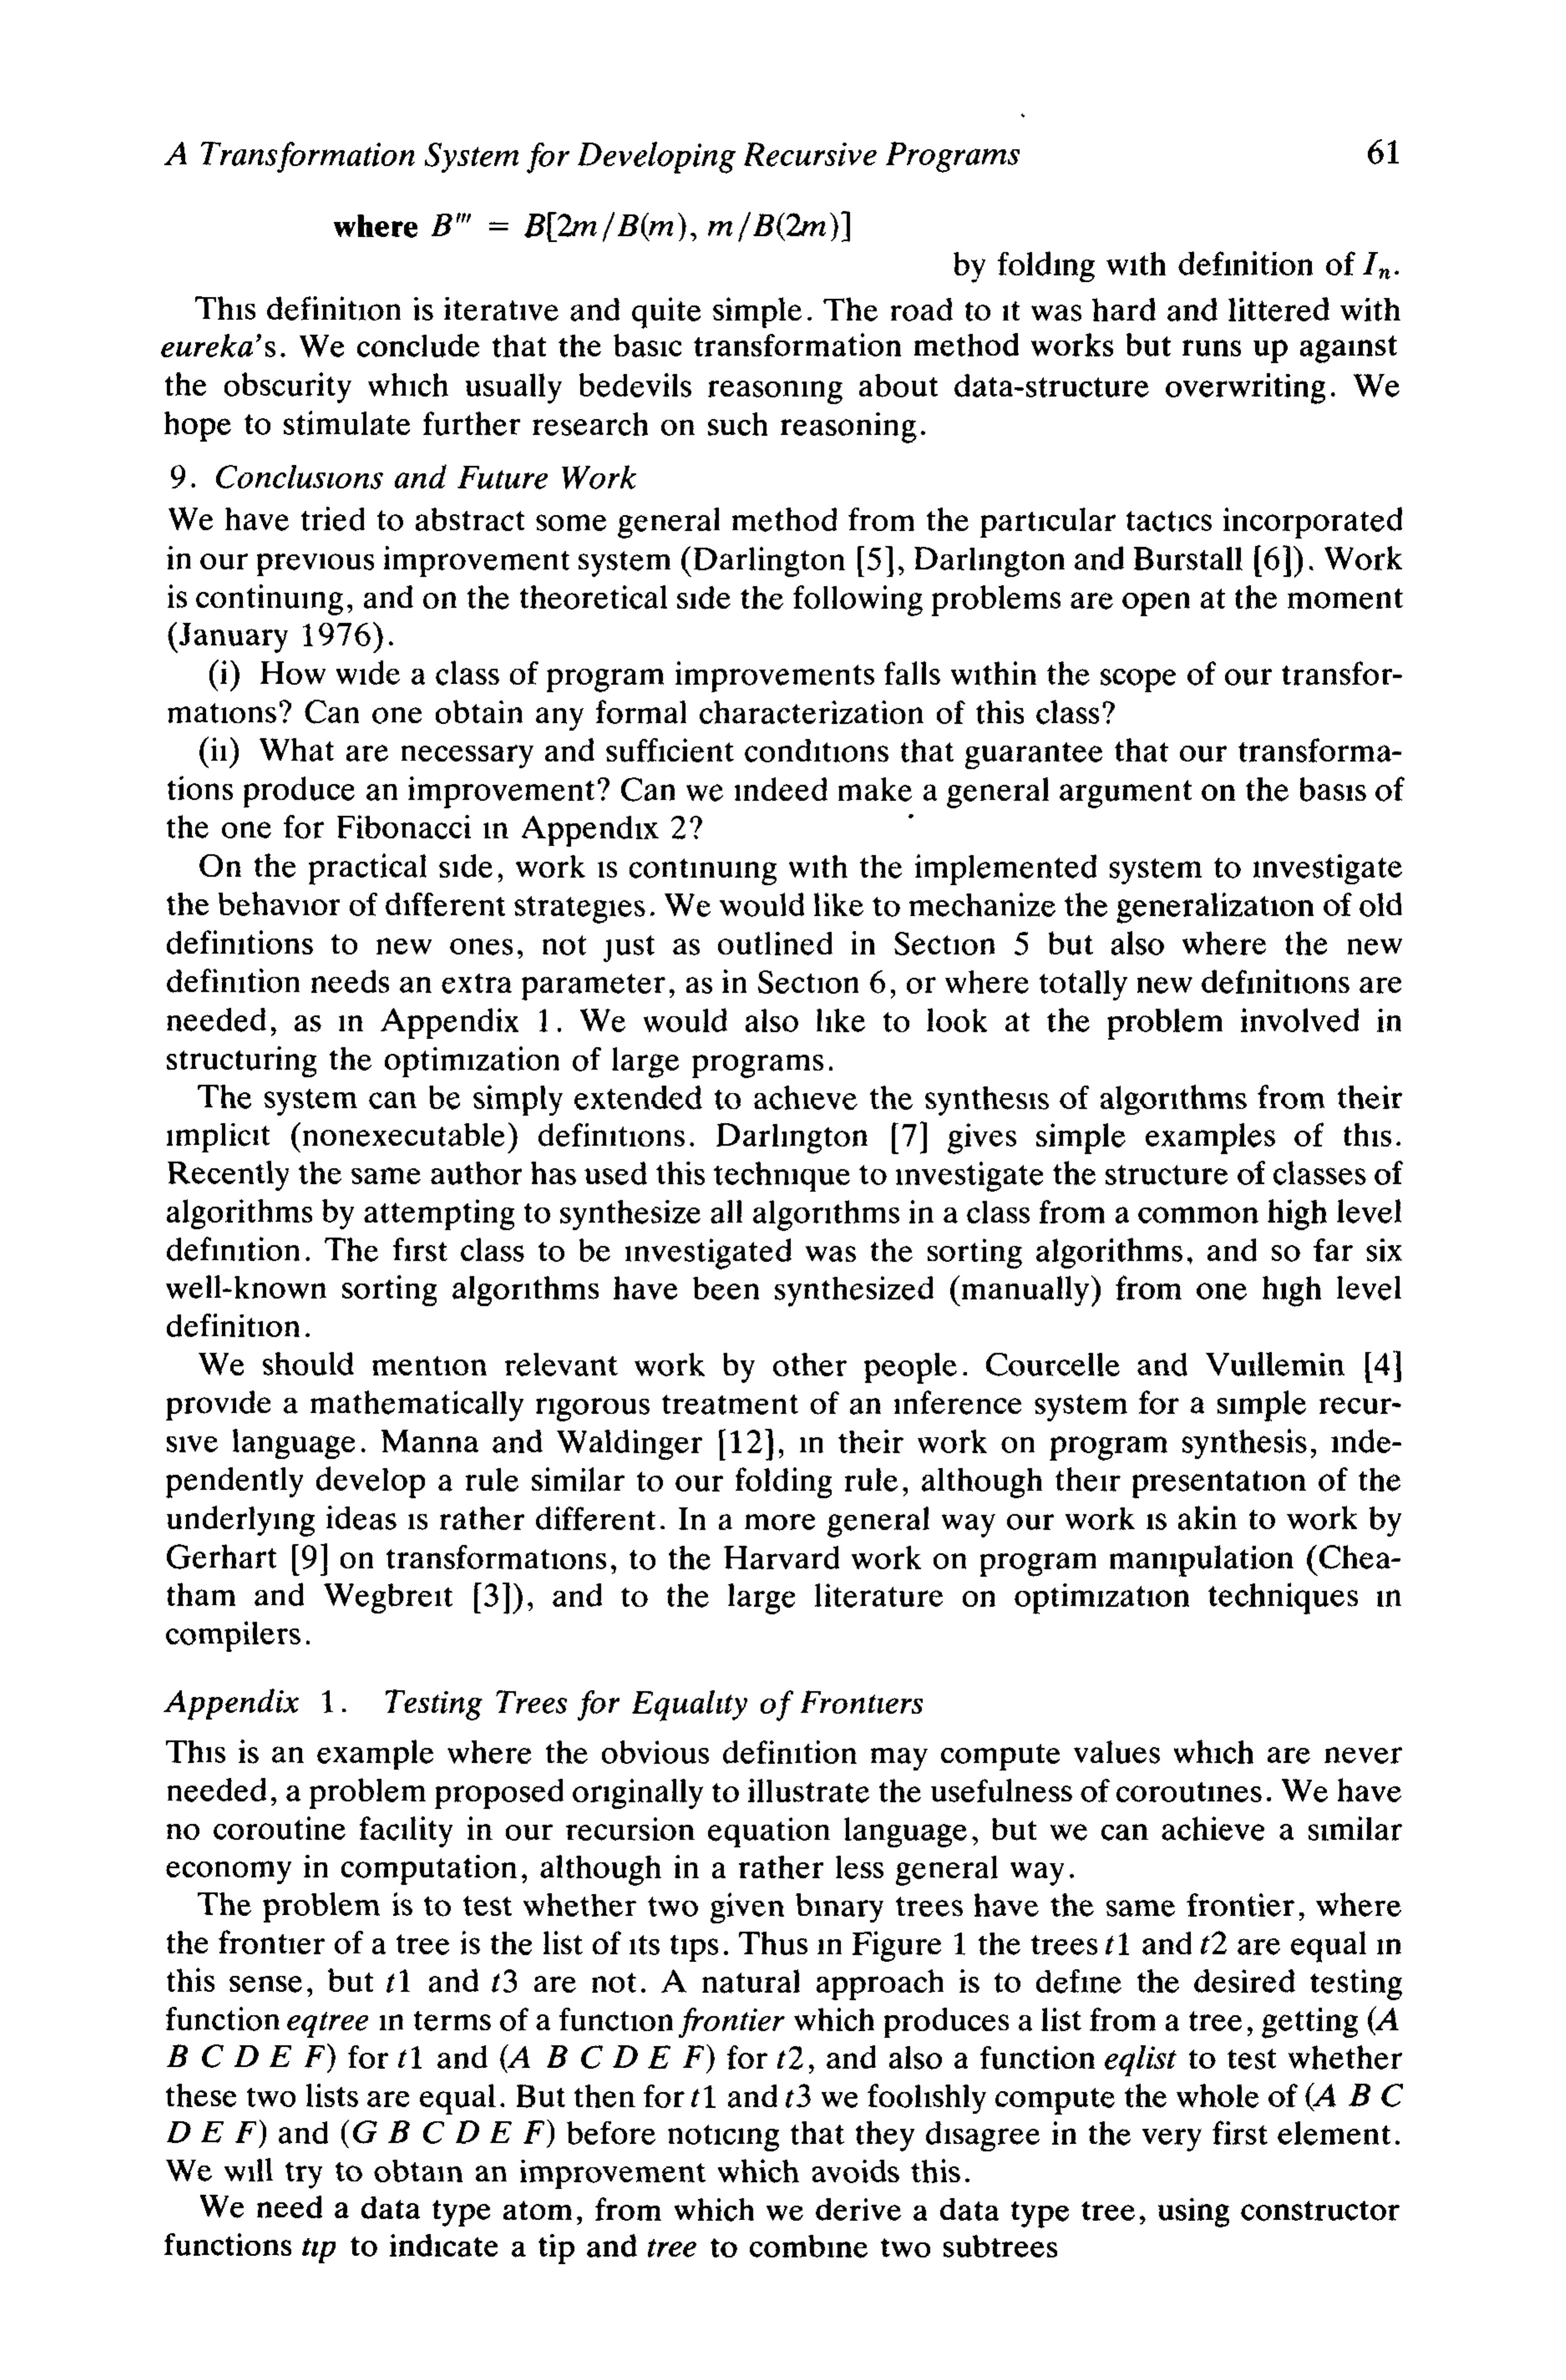maths: (432, 211, 849, 243), (500, 2044, 715, 2074), (341, 2120, 554, 2148), (168, 2043, 336, 2072), (1306, 2083, 1403, 2111), (168, 2120, 266, 2148), (1369, 2006, 1398, 2036), (302, 2238, 336, 2263), (1363, 252, 1389, 280), (786, 2083, 811, 2107), (1201, 1931, 1227, 1954), (491, 1969, 517, 1992), (778, 2046, 804, 2069), (386, 1969, 411, 1992), (1106, 1933, 1129, 1955), (398, 2046, 421, 2069), (692, 2085, 715, 2107)
